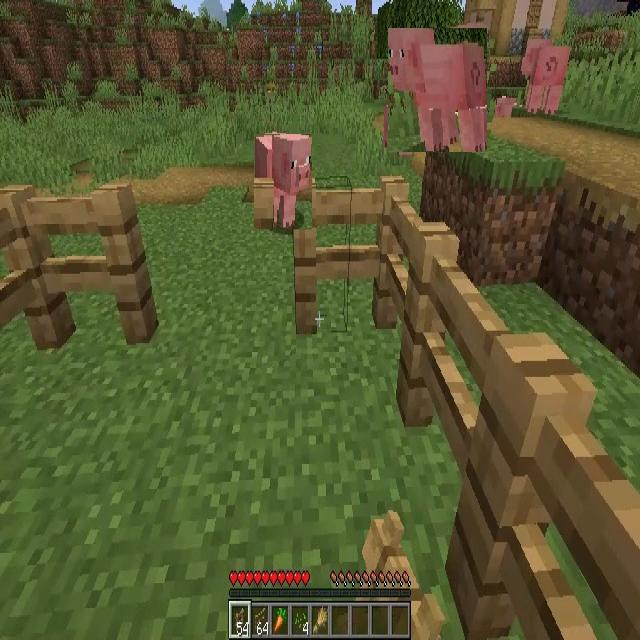pig: (388, 28, 487, 152), (255, 134, 312, 229), (522, 33, 570, 114)
